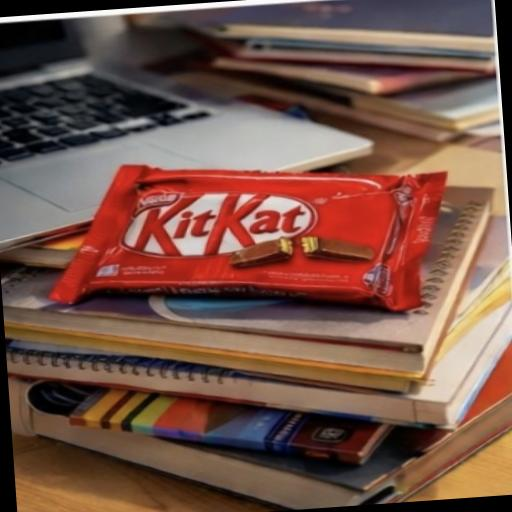kitkat: (41, 91, 493, 358)
